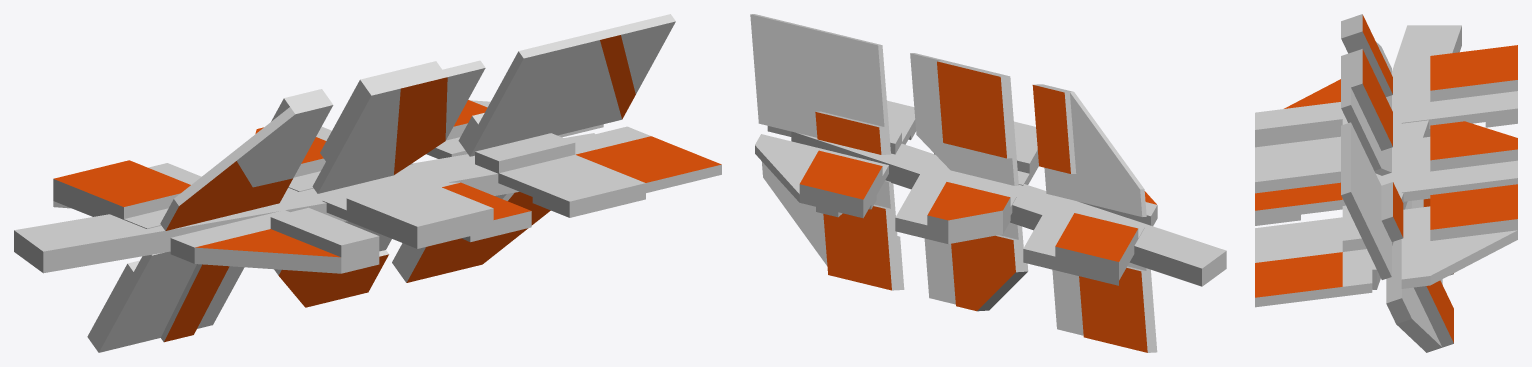
Rendered from scifi_randomplant_01.fbx.
3 views of the same model, side by side, from view 1: azimuth 30°, elevation 25°; view 2: azimuth 150°, elevation 25°; view 3: azimuth 270°, elevation 25° (orthographic). The views are drawn at different scales.
Parts seen in each view (by area): view 1: scifi_randomplant_01; view 2: scifi_randomplant_01; view 3: scifi_randomplant_01.
Part boxes in pixels (left/top/right/bottom): scifi_randomplant_01: left=14, top=14, right=721, bottom=352; scifi_randomplant_01: left=750, top=14, right=1226, bottom=352; scifi_randomplant_01: left=1255, top=14, right=1517, bottom=352.
Bounding box in the file's own units: 262 × 104 × 106.
